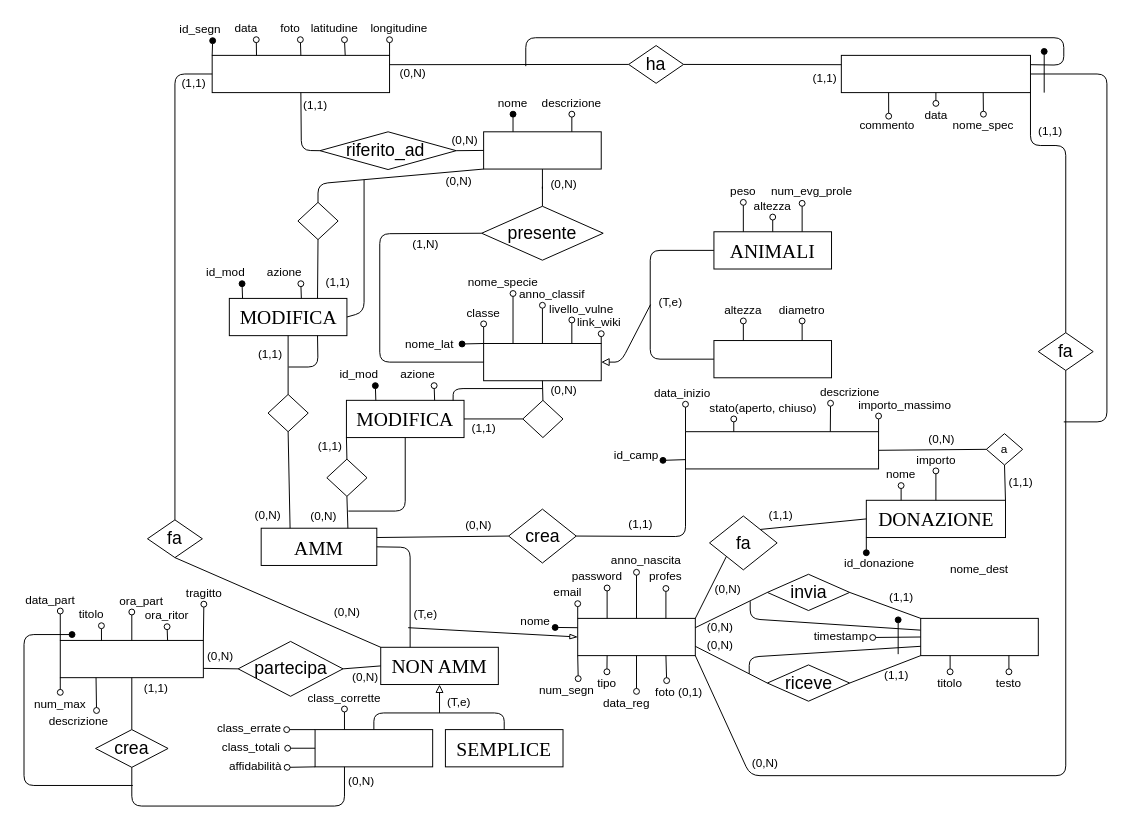
This 1125x824 diagram has some shape labels left out. Each missing label, with the centre of its shape:
CAMPAGNA_FONDI: the point at 782,450
ESCURSIONE: the point at 131,658
HABITAT: the point at 542,150
MESSAGGIO: the point at 979,636
PREMIUM: the point at 373,748
PROPOSTA_CLASS: the point at 935,73
SEGNALAZIONE: the point at 300,73
SPECIE: the point at 542,362
UTENTE: the point at 636,636
VEGETALI: the point at 772,359
